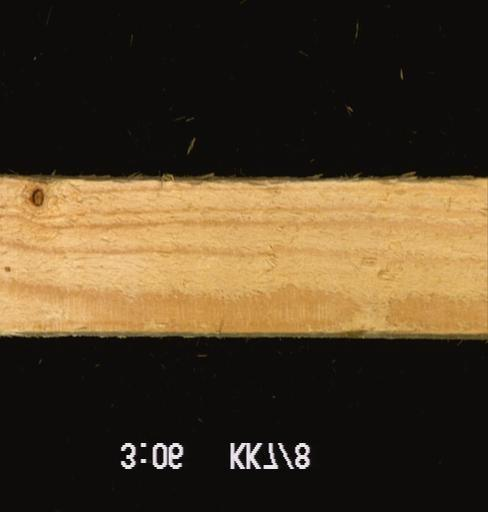dry_knot: (26, 184, 51, 208)
